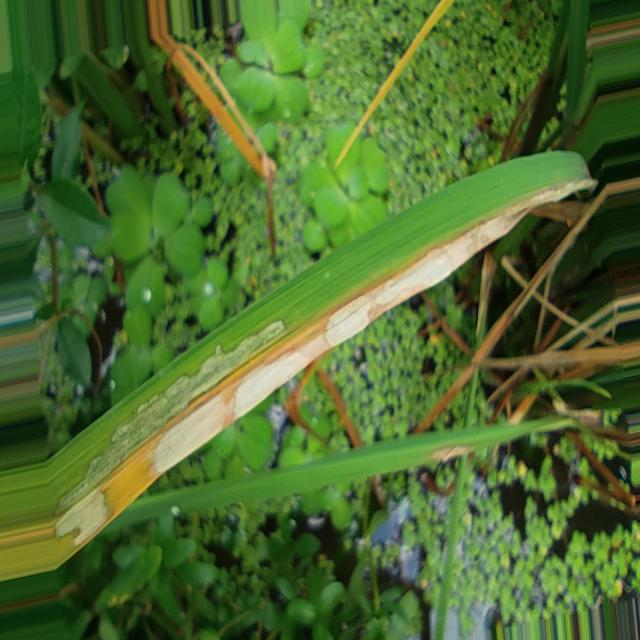Leaf_Blast: (148, 0, 276, 252), (334, 0, 453, 168), (318, 368, 362, 448), (285, 362, 320, 439)
Rice False Smut: (60, 320, 284, 508), (325, 208, 525, 346), (155, 393, 232, 473), (234, 348, 309, 418), (55, 490, 108, 547)
